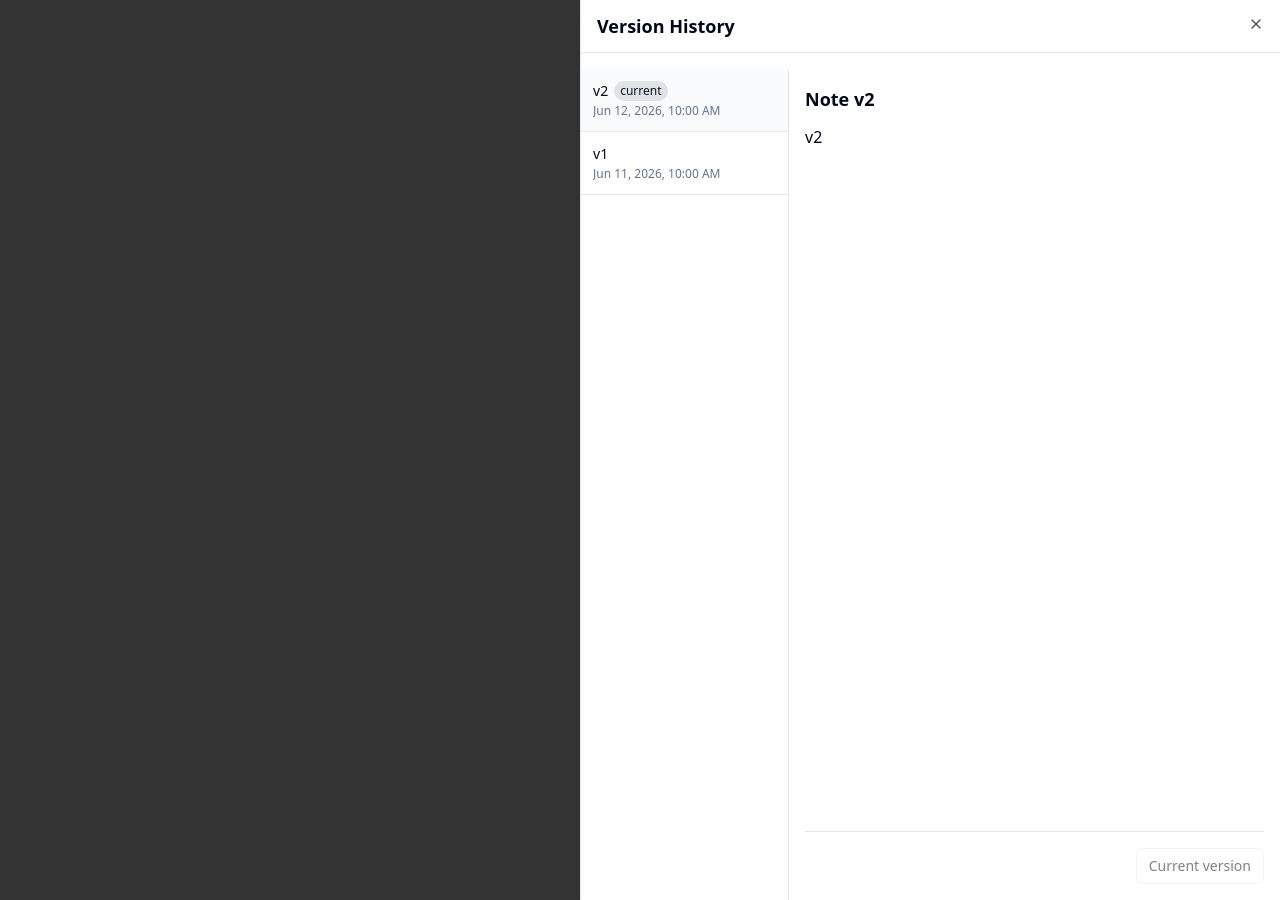
VersionHistorySheet › C08: clicking Restore opens the AlertDialog confirmation
// Select v1
Click the button "v1 Jun 11, 2026, 10:00 AM" at (684, 164), box x1=581 y1=132 x2=788 y2=195
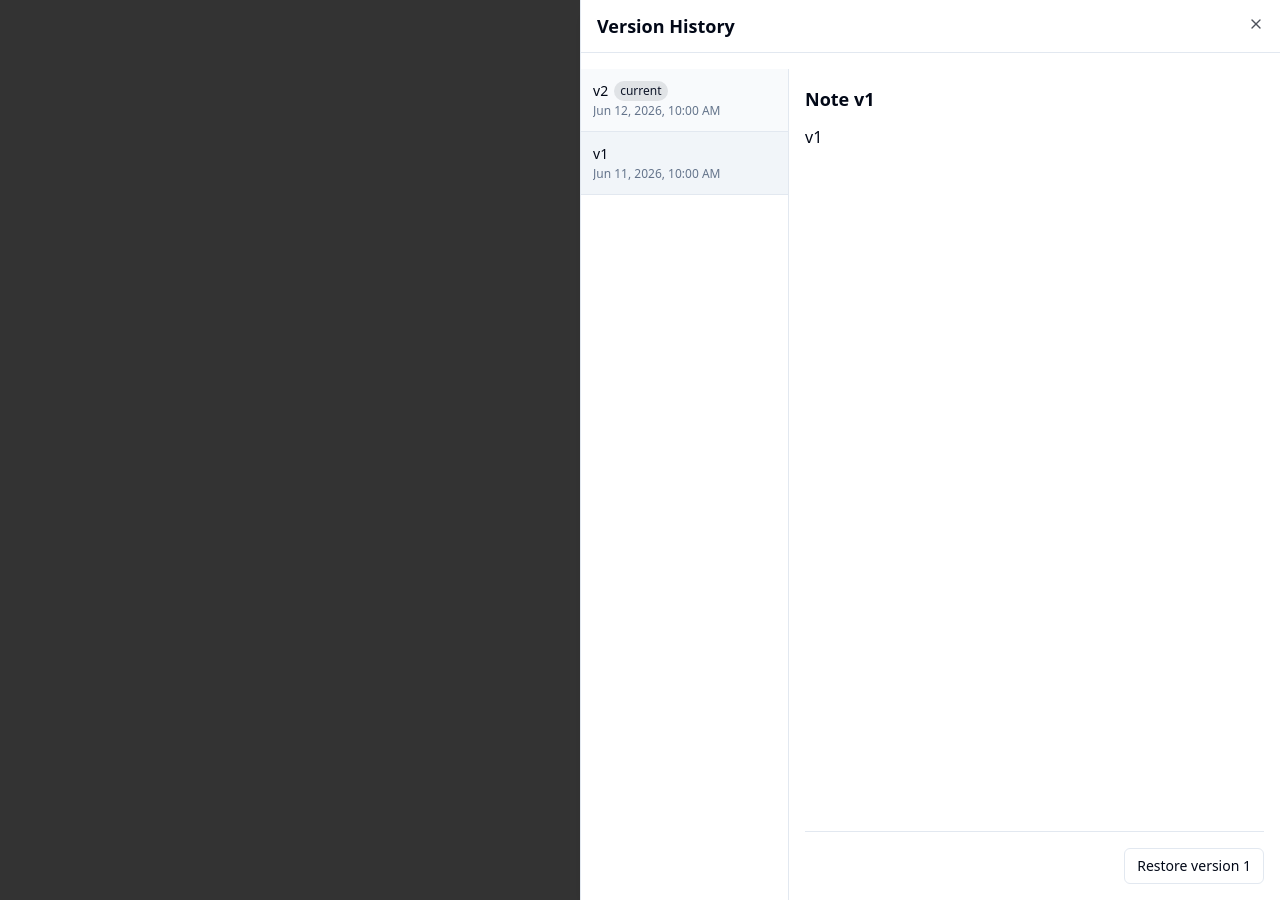
Click the button "Restore version 1" at (1194, 866), box x1=1124 y1=848 x2=1264 y2=884
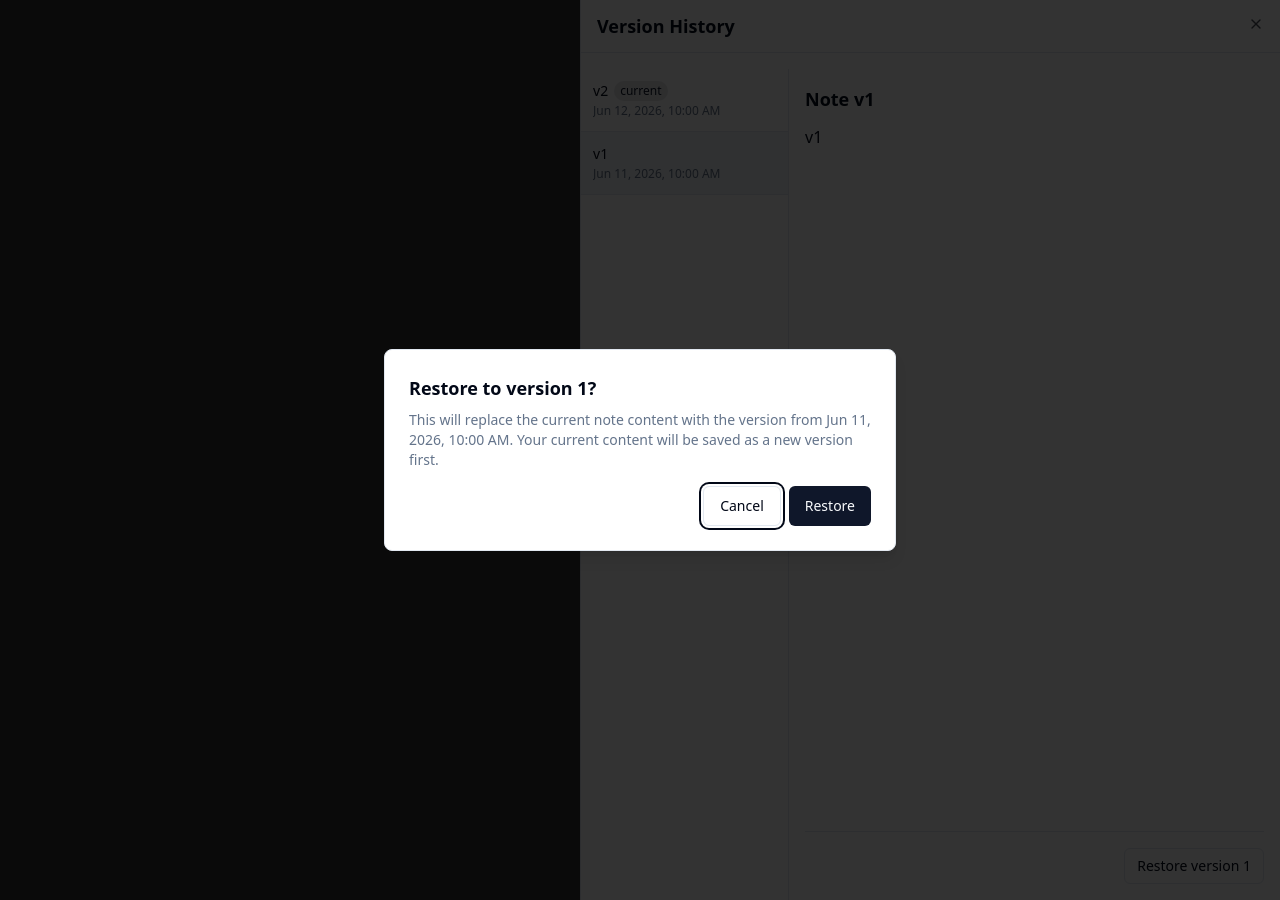
Result: the heading "Restore to version 1?" is shown at x1=409 y1=376 x2=596 y2=400
